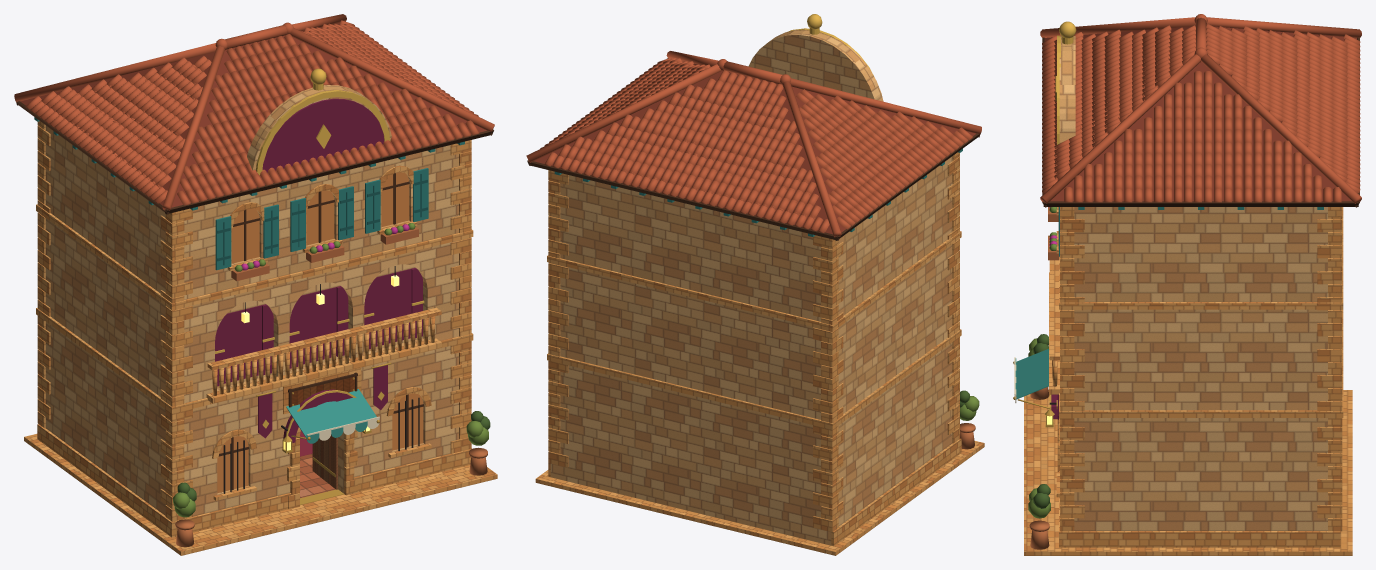
Rendered from house_large_loggia.glb.
The picture shows the model from 3 angles, left to right: view 1: azimuth 30°, elevation 25°; view 2: azimuth 150°, elevation 25°; view 3: azimuth 270°, elevation 25°; orthographic projection. The views are drawn at different scales.
Parts seen in each view (by area): view 1: exterior_walls, roof_tiles, exterior_trim, facade_details, roof_structure, windows, planters, opt_awning, door_frame, door_leaf, interior_floor, sign_board (+1 smaller); view 2: exterior_walls, roof_tiles, exterior_trim, roof_structure, planters; view 3: exterior_walls, roof_tiles, exterior_trim, roof_structure, planters, facade_details, opt_awning.
Part boxes in pixels (<box>): exterior_walls: <box>45,125,459,516</box>; roof_tiles: <box>14,14,494,210</box>; exterior_trim: <box>24,121,497,555</box>; facade_details: <box>206,266,441,442</box>; roof_structure: <box>15,23,493,214</box>; windows: <box>215,168,428,493</box>; planters: <box>173,223,490,547</box>; opt_awning: <box>286,389,379,443</box>; door_frame: <box>287,427,357,509</box>; door_leaf: <box>312,434,337,489</box>; interior_floor: <box>299,430,335,498</box>; sign_board: <box>288,372,357,407</box>; exterior_walls: <box>550,156,952,545</box>; roof_tiles: <box>526,51,981,237</box>; exterior_trim: <box>535,152,984,555</box>; roof_structure: <box>527,14,980,240</box>; planters: <box>959,390,979,449</box>; exterior_walls: <box>1074,207,1327,530</box>; roof_tiles: <box>1040,14,1361,203</box>; exterior_trim: <box>1024,207,1352,555</box>; roof_structure: <box>1042,21,1359,209</box>; planters: <box>1028,207,1059,549</box>; facade_details: <box>1049,260,1059,419</box>; opt_awning: <box>1013,348,1049,408</box>.
Bounding box in the file's own units: 10.07 × 12.54 × 8.75.
25 materials, 5 textured.
